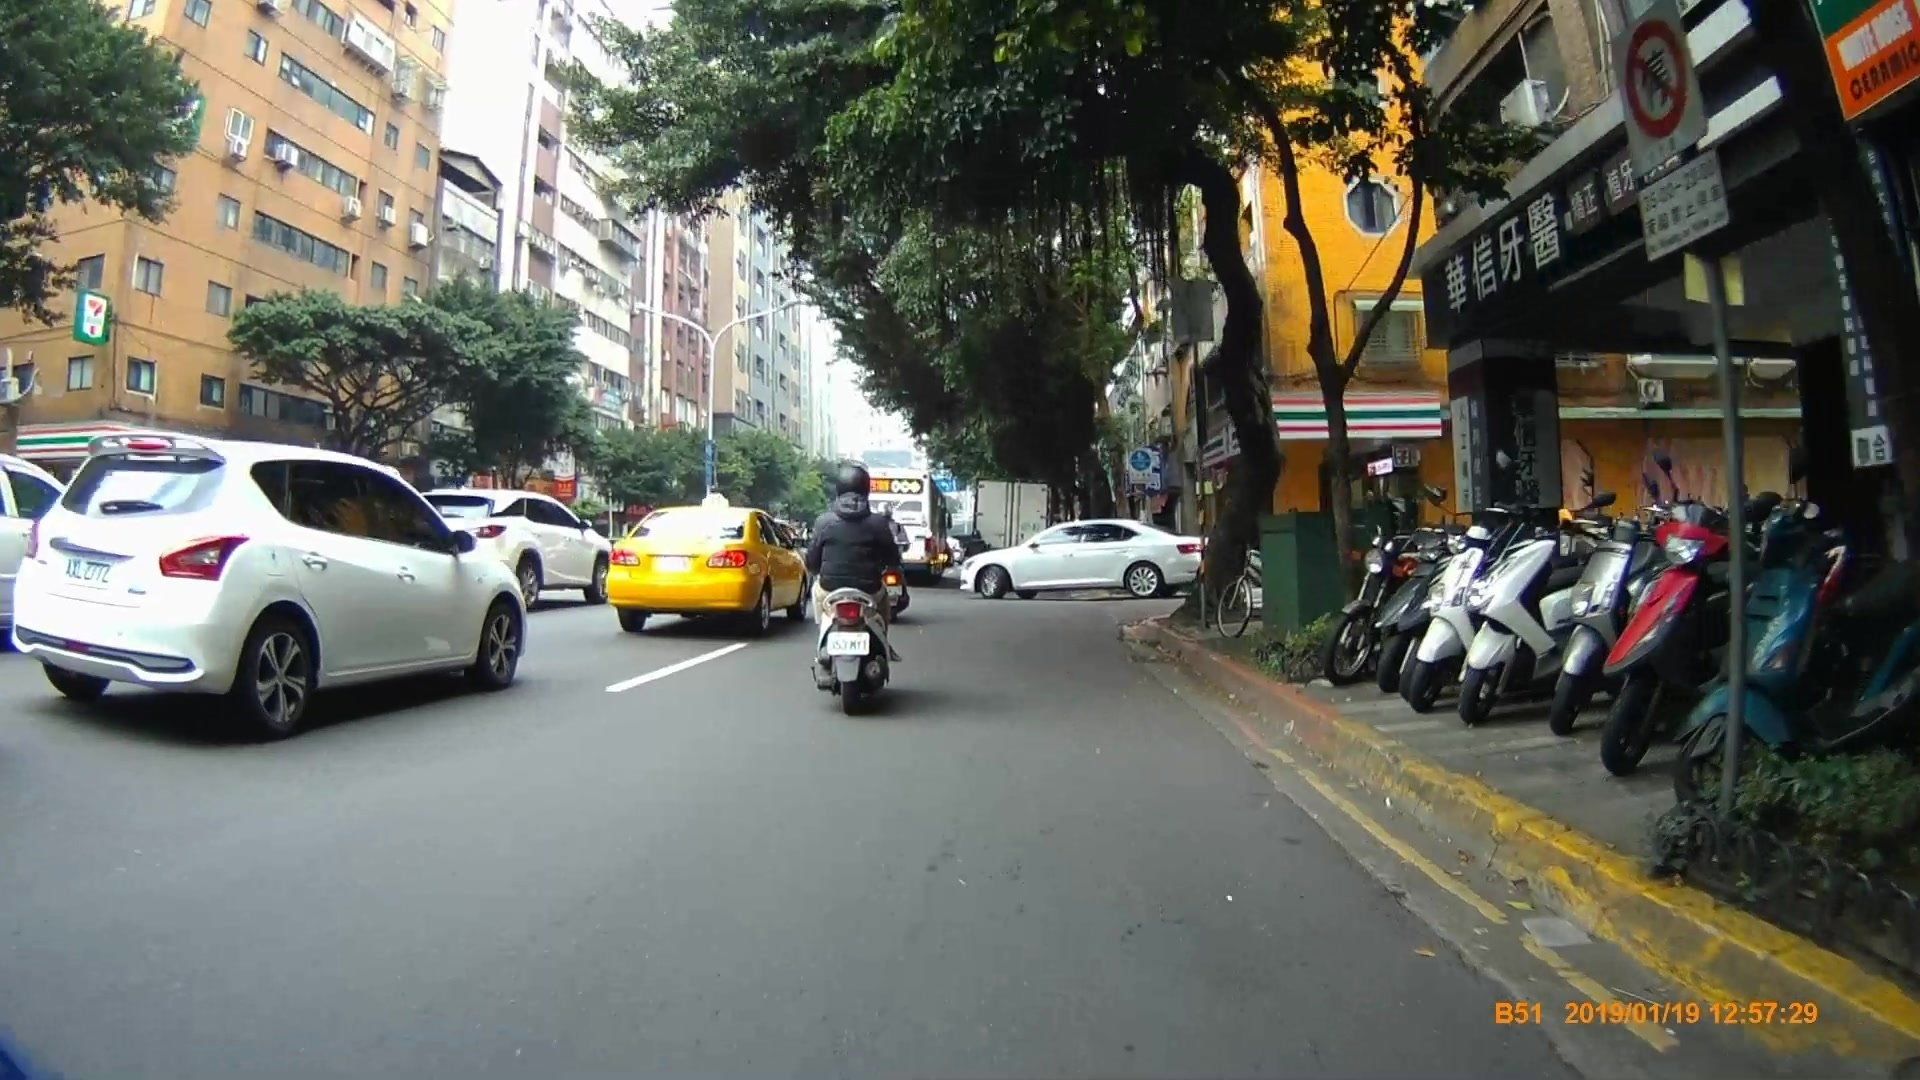License_plate: (57, 551, 123, 592), (826, 631, 871, 653)
